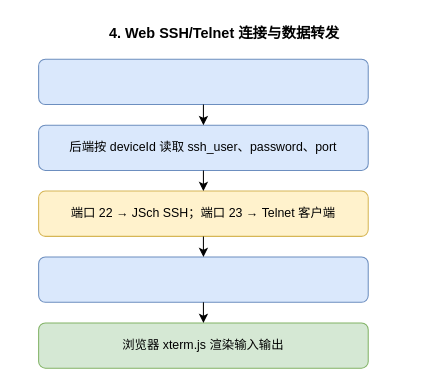
The diagram is 447 pixels wide and 386 high, and some of its shapes have lost their labels. The shapes that lost their labels are listed below. From the top down, each one's centre as x and y in pixels, then its label:
the point at 203,81: 用户选择设备并建立 WebSocket 连接
the point at 203,279: 双向转发：WebSocket ↔ 终端会话
